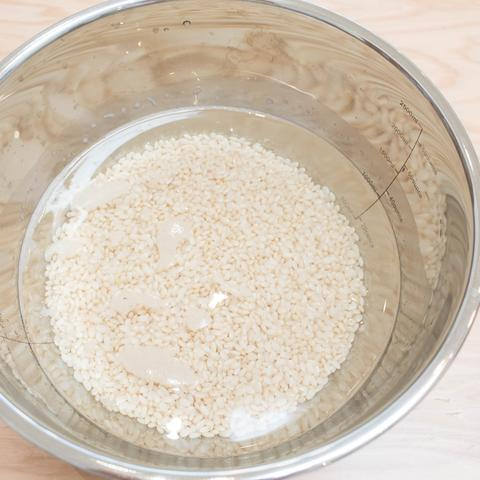plain rice: (63, 161, 346, 409)
